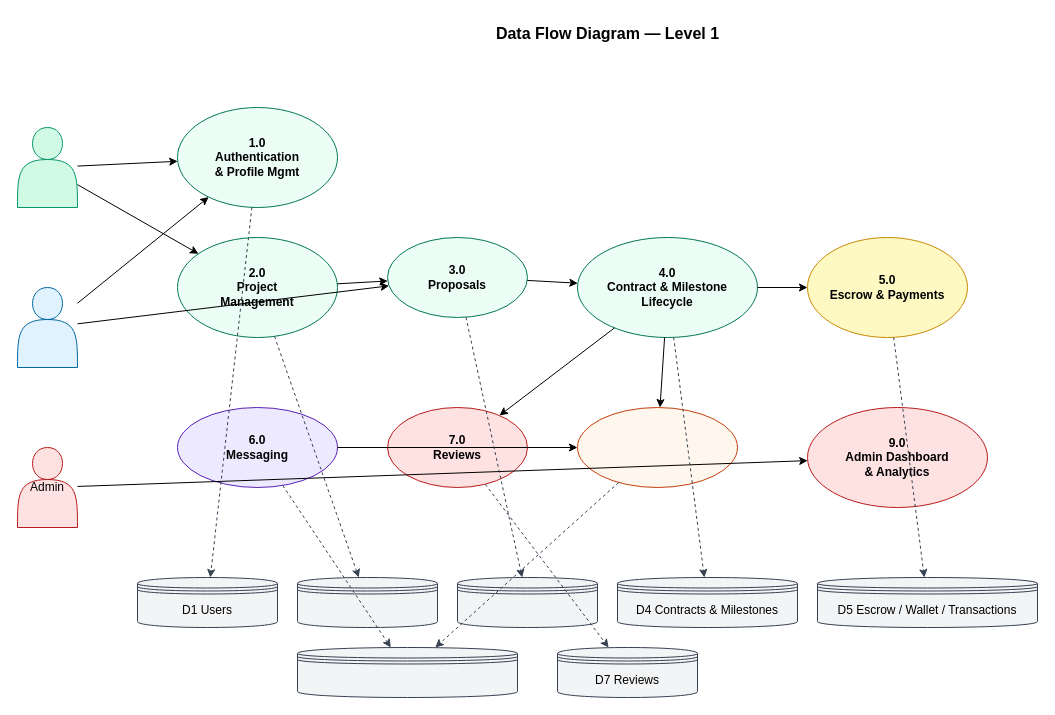
This 1055x715 diagram has some shape labels left out. The centre of each missing label's shape, as x and y in pixels:
8.0 Notifications: (x=657, y=447)
Client: (x=47, y=167)
D2 Projects: (x=367, y=602)
D3 Proposals: (x=527, y=602)
D6 Messages / Notifications: (x=407, y=672)
Freelancer: (x=47, y=327)
